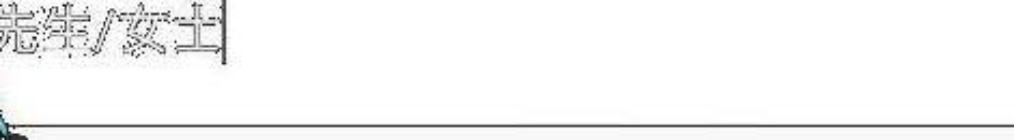EditText: (1, 1, 1013, 139)
